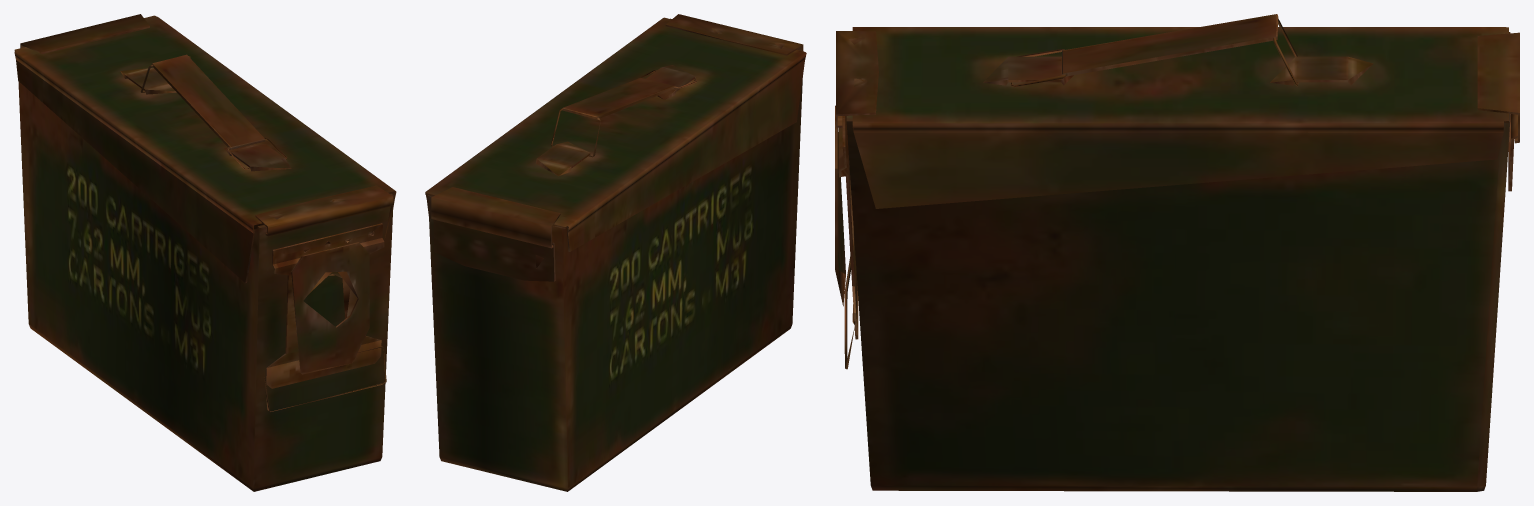
File: ammo.glb
3 views of the same model, side by side, from view 1: azimuth 30°, elevation 25°; view 2: azimuth 150°, elevation 25°; view 3: azimuth 270°, elevation 25° (orthographic). The views are drawn at different scales.
Visible parts, largest first — view 1: ammo_box_handle_ring_b; view 2: ammo_box_handle_ring_b; view 3: ammo_box_handle_ring_b.
Part boxes in pixels (bbox=[...]): ammo_box_handle_ring_b: bbox=[14, 14, 396, 491]; ammo_box_handle_ring_b: bbox=[425, 14, 806, 491]; ammo_box_handle_ring_b: bbox=[835, 14, 1519, 491].
Bounding box in the file's own units: 0.0855 × 0.1757 × 0.2576.
Materials: 1 (1 with a texture image).
